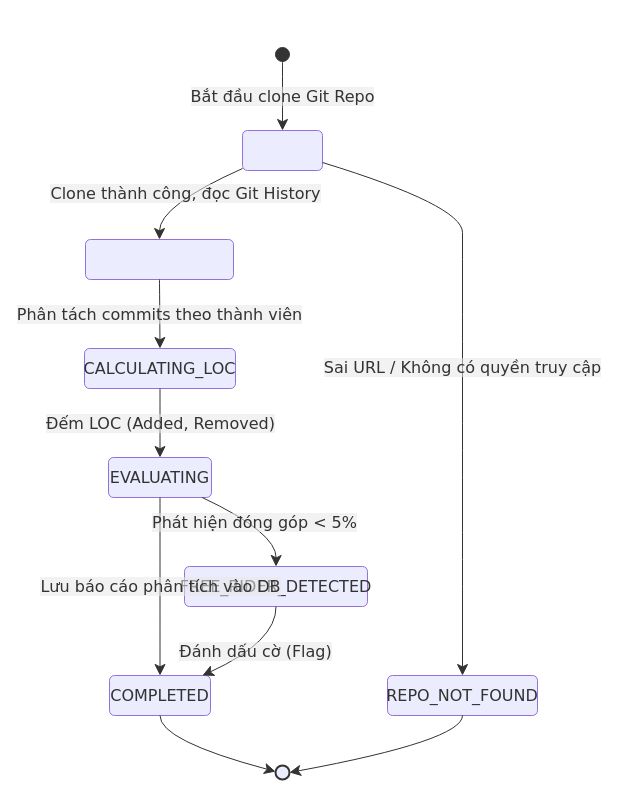
Image size: 618x797. Some labels were removed from this diagram. Each missing label, with the centre of its shape:
"CLONING" belongs at [282,150].
"PARSING_COMMITS" belongs at [159,259].
